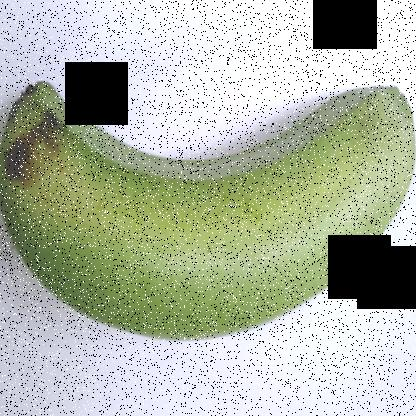freshunripe: (1, 38, 415, 361)
